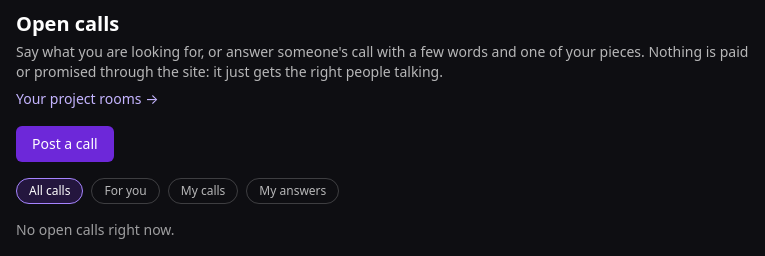
CallsPage › says when there is nothing
Check: the text "No open calls right now." is shown, box [16,220,175,239]
Click the button "My calls" at (203, 191), box [168,178,238,204]
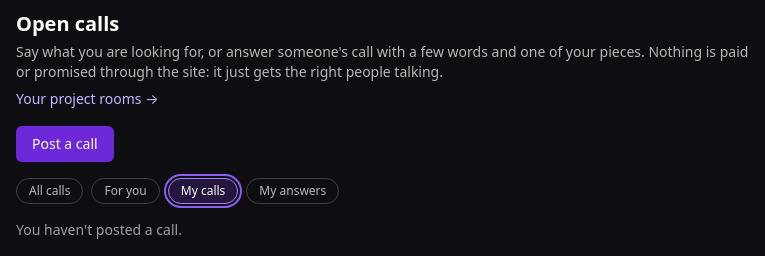
Check: the text "You haven't posted a call." is shown, box [16,220,182,239]
Click the button "My answers" at (293, 191), box [246,178,339,204]
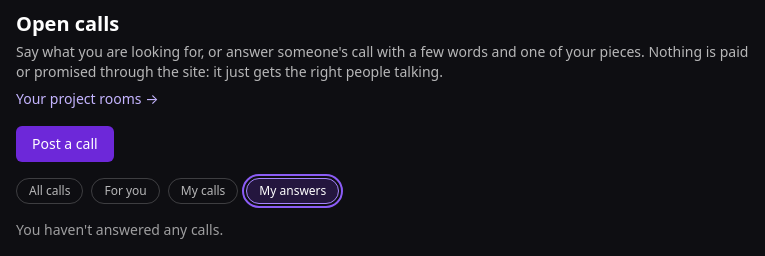
Check: the text "You haven't answered any calls." is shown, box [16,220,223,239]
